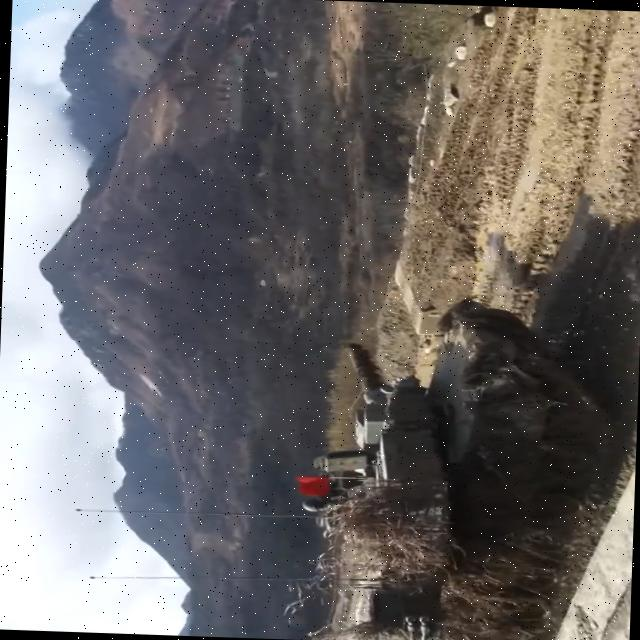korea tank: (290, 290, 616, 640)
